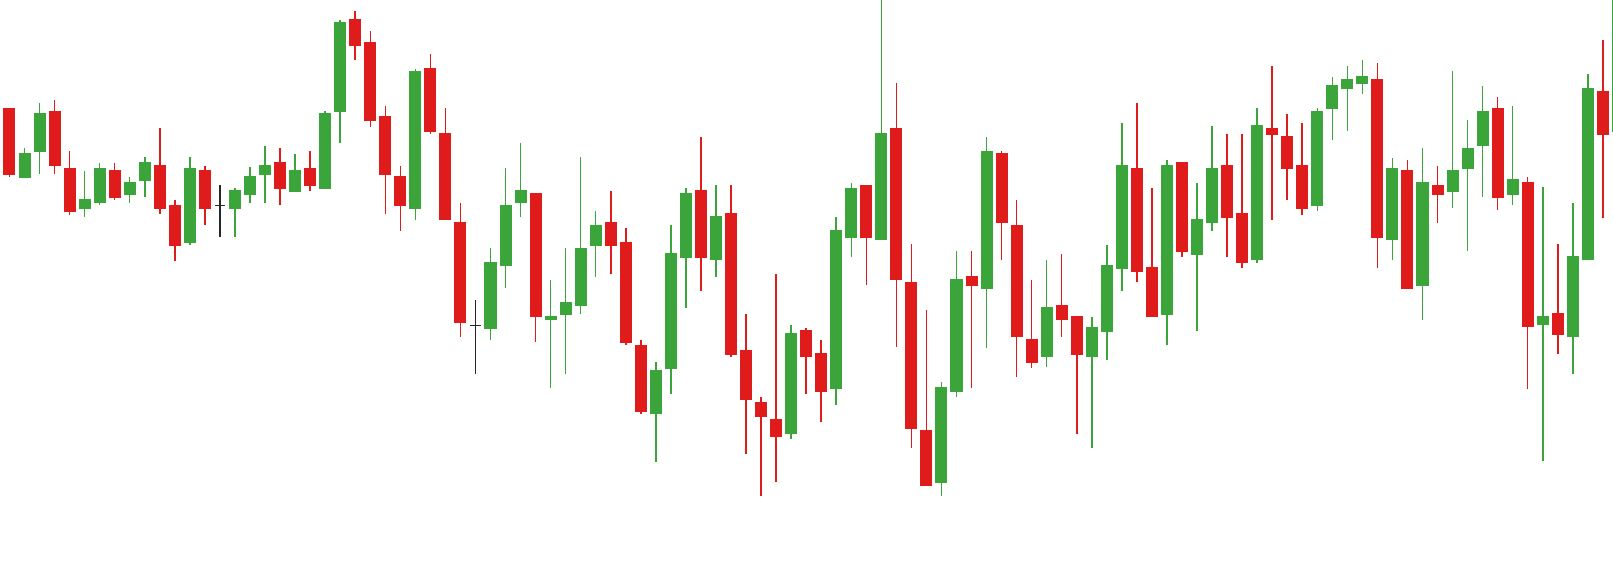buy: (811, 227, 948, 493), (649, 260, 768, 492)
